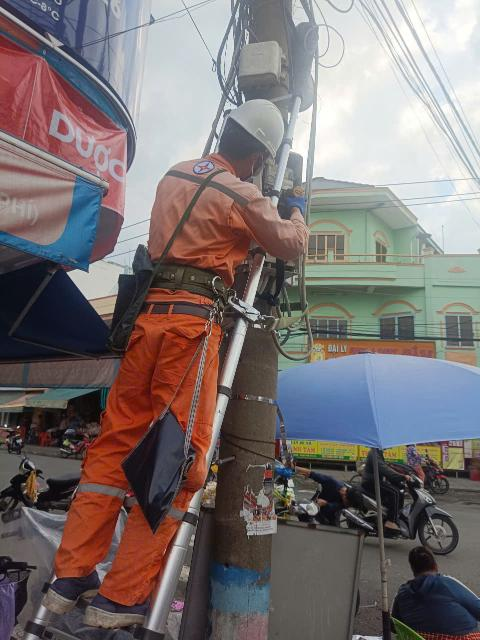gloves: (280, 183, 323, 223)
harness: (124, 243, 259, 324)
helmet: (217, 91, 305, 157)
shoes: (83, 585, 174, 640), (28, 559, 99, 611)
